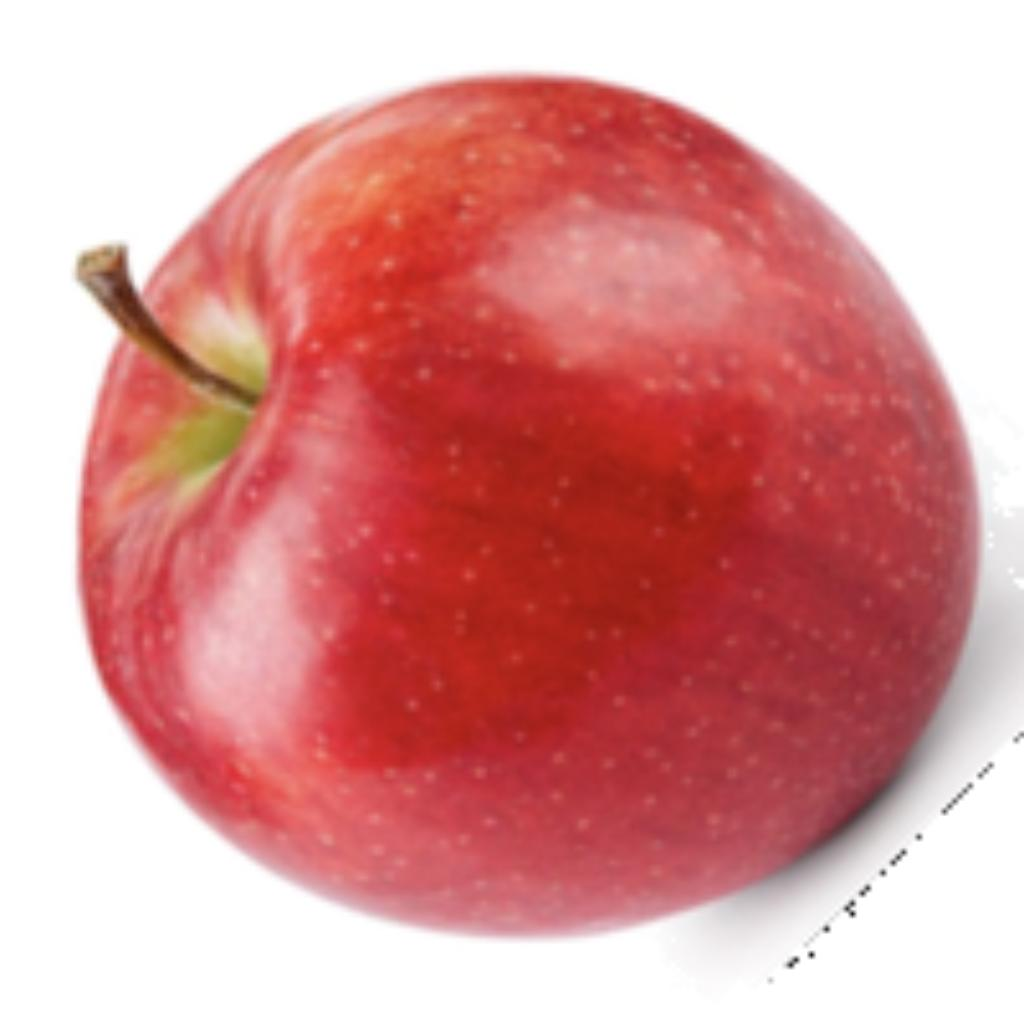apple: (67, 61, 1019, 993)
